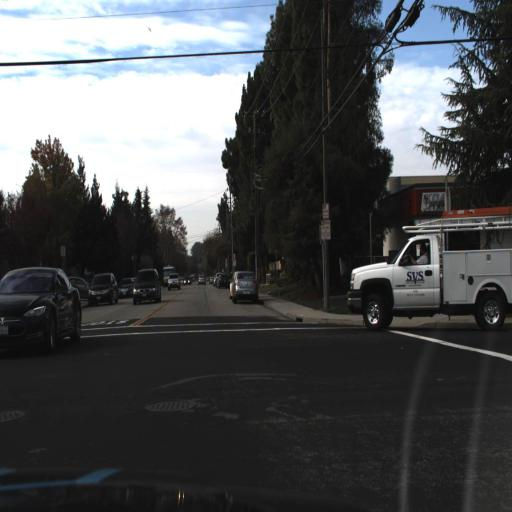car: (340, 199, 511, 359), (0, 260, 86, 370), (0, 269, 84, 351), (82, 265, 119, 306), (132, 265, 161, 306), (85, 270, 116, 305), (228, 271, 259, 301), (69, 271, 93, 295), (115, 276, 135, 301), (178, 278, 197, 302), (193, 271, 209, 290)
truck: (347, 228, 510, 335)
